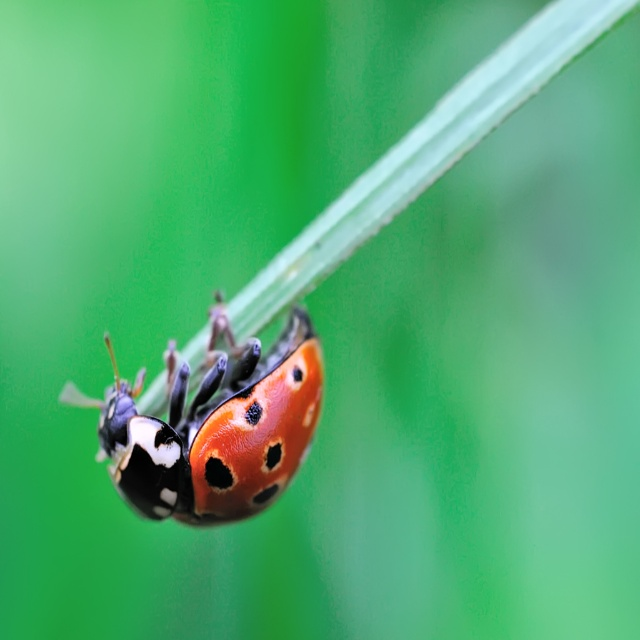Ladybug: (58, 287, 324, 529)
